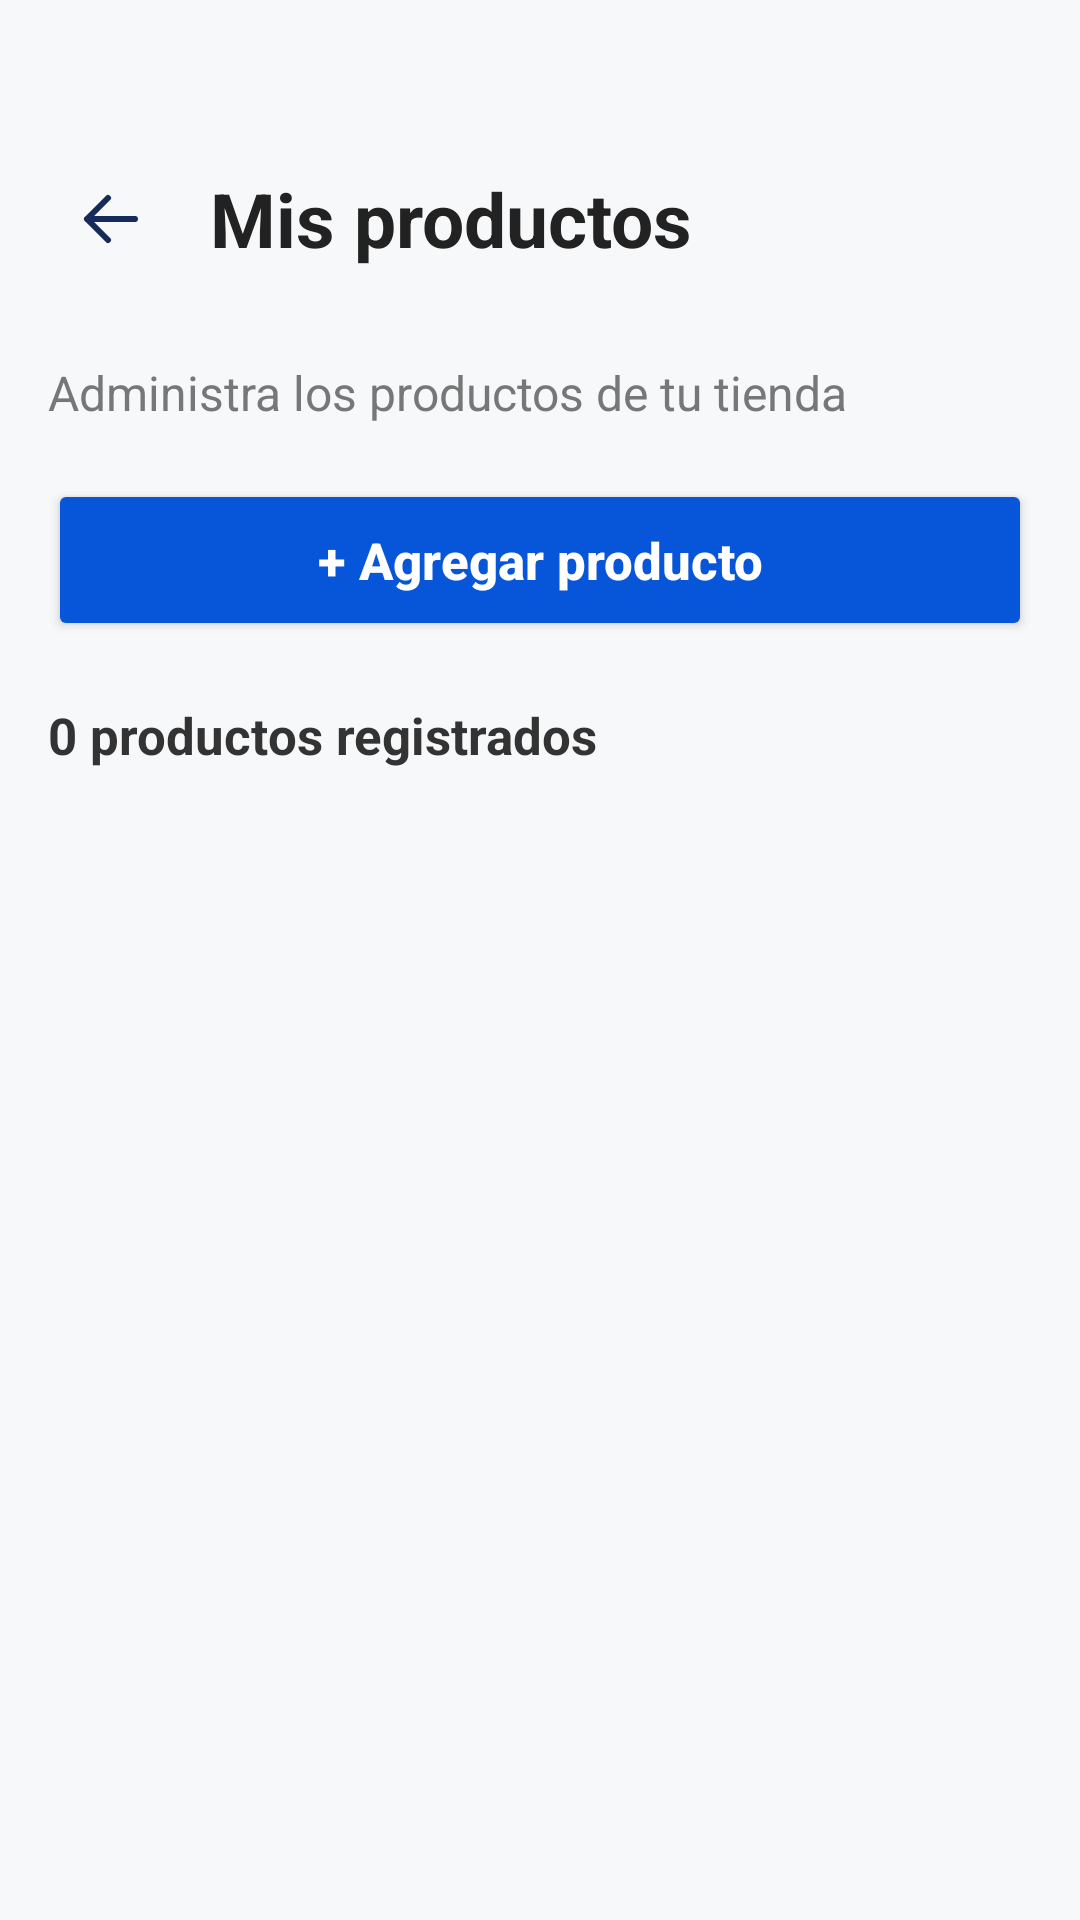

Icon bounding boxes for this 1080px×1920px phone screenshot, format (x1, y1, x2, y2):
Volver: (84, 195, 138, 243)
